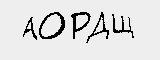А: (22, 15, 36, 43)
Д: (87, 10, 109, 43)
О: (37, 10, 64, 39)
Р: (71, 9, 90, 39)
Щ: (112, 12, 136, 38)
